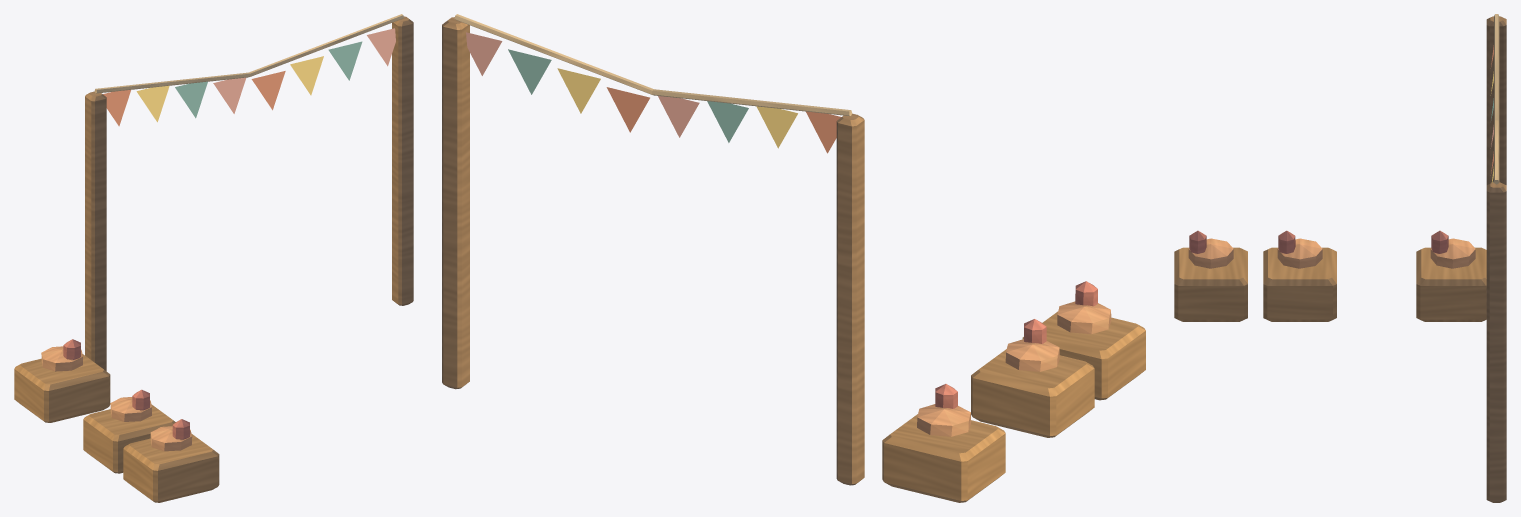
File: pier_feast.glb
3 views of the same model, side by side, from view 1: azimuth 30°, elevation 25°; view 2: azimuth 150°, elevation 25°; view 3: azimuth 270°, elevation 25° (orthographic). The views are drawn at different scales.
Visible parts, largest first — view 1: Fischersteg · Bänder und Einweihung; view 2: Fischersteg · Bänder und Einweihung; view 3: Fischersteg · Bänder und Einweihung.
Boxes of the visible parts, x1,y1,x2,y2 form: Fischersteg · Bänder und Einweihung: (14, 14, 413, 502); Fischersteg · Bänder und Einweihung: (442, 14, 1145, 502); Fischersteg · Bänder und Einweihung: (1174, 14, 1506, 502).
Bounding box in the file's own units: 2.72 × 1.87 × 1.76.
2 materials, 1 textured.
